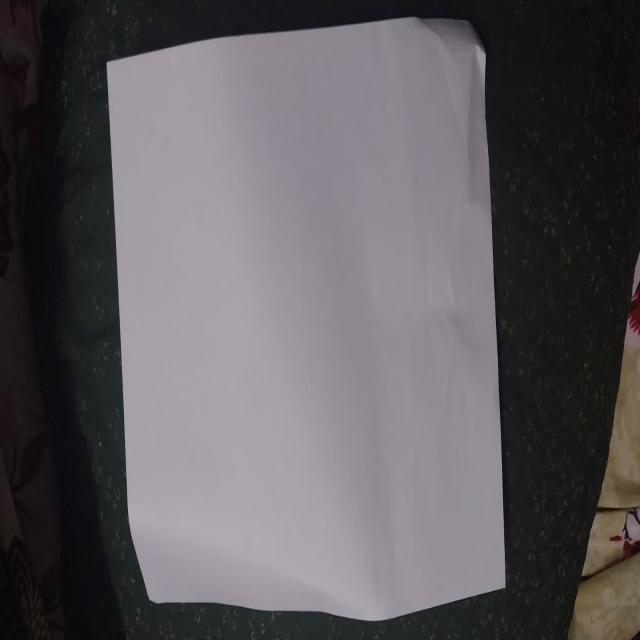Paper - Recyclable: (105, 14, 508, 622)
